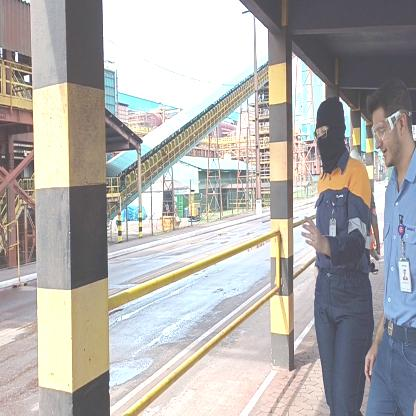Balaclava: (312, 92, 347, 172)
Operacional: (315, 168, 372, 272)
